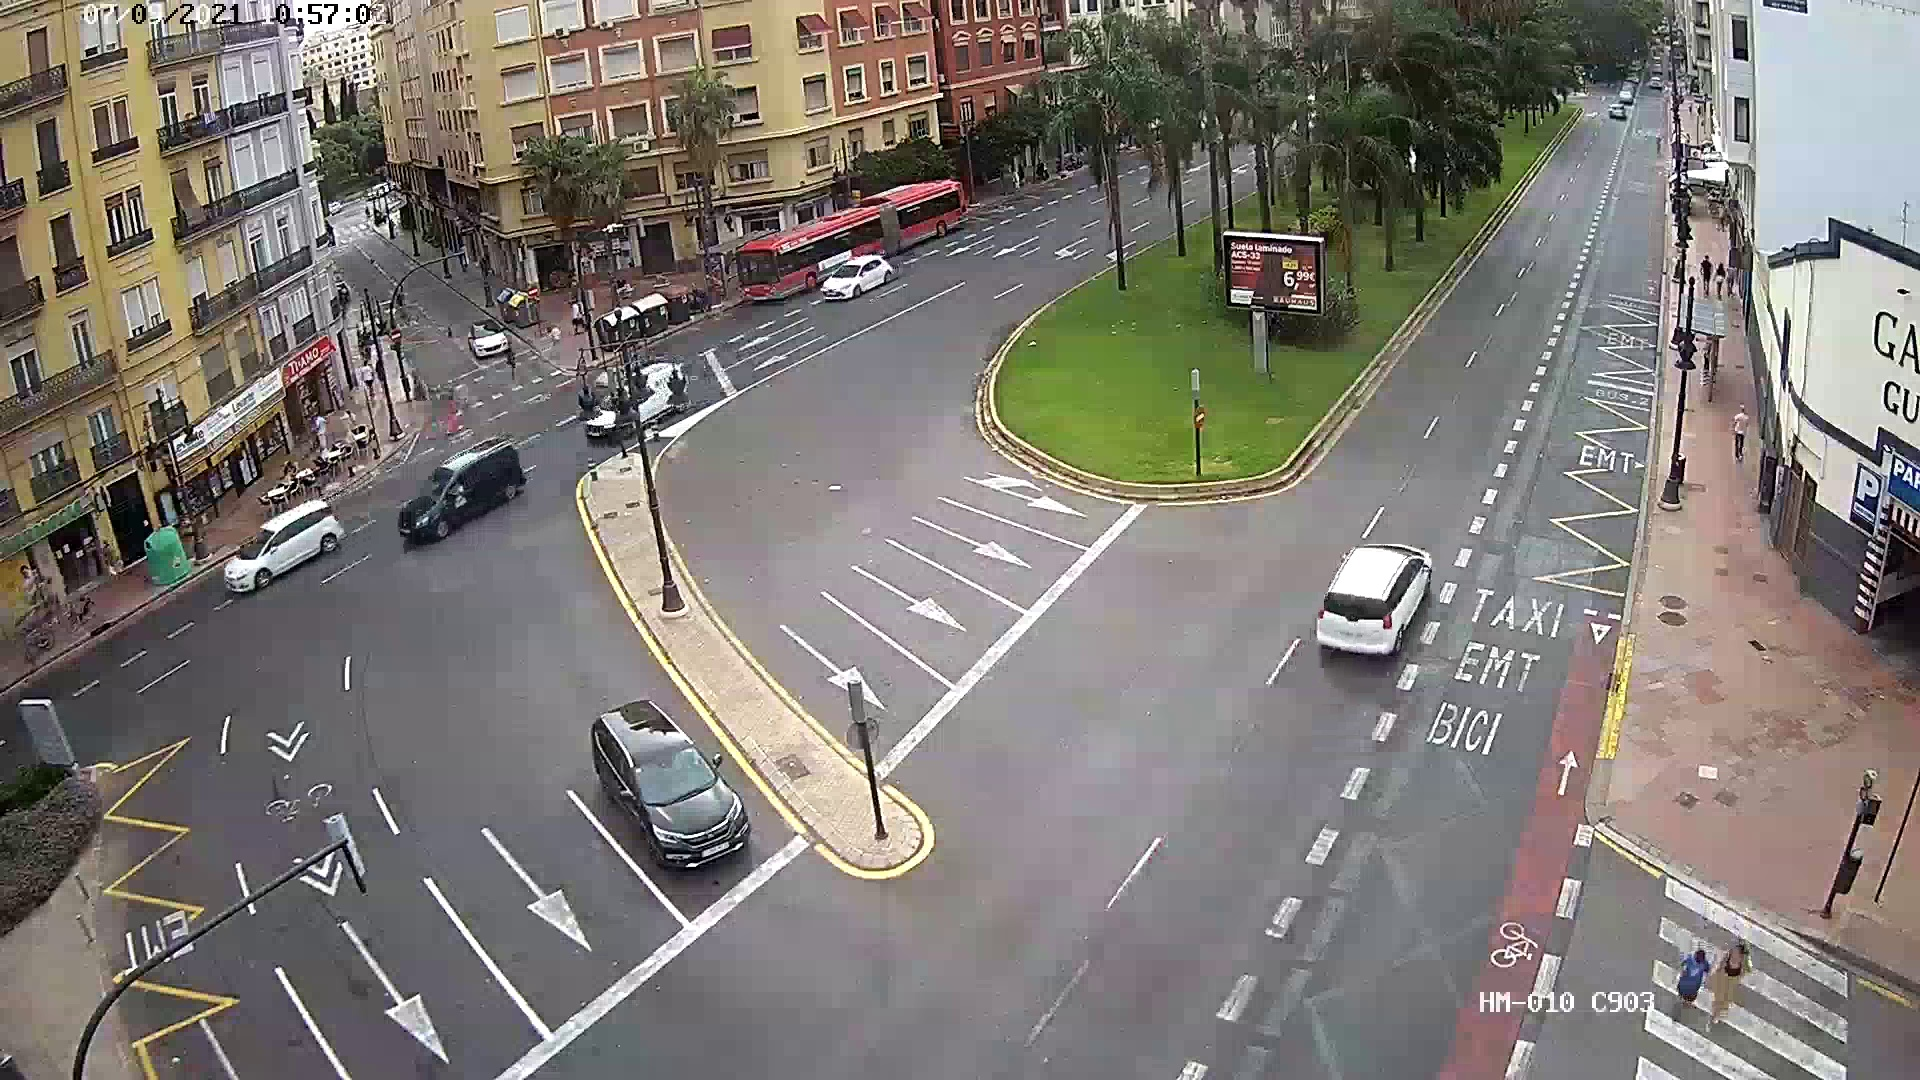Cars: (583, 688, 789, 911), (1341, 524, 1425, 659), (216, 502, 335, 595), (386, 456, 535, 527), (818, 266, 909, 303)
